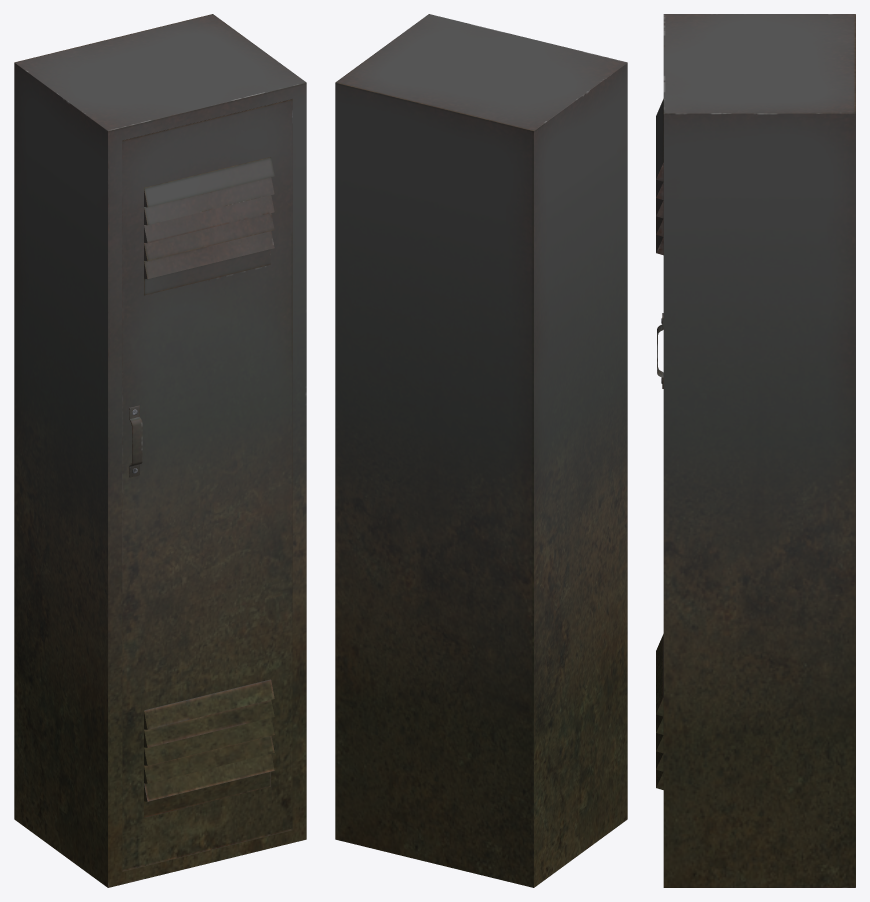
File: LOCKER_FINAL.fbx
3 renders of one model, left to right at view 1: azimuth 30°, elevation 25°; view 2: azimuth 150°, elevation 25°; view 3: azimuth 270°, elevation 25°, orthographic. The views are drawn at different scales.
Parts seen in each view (by area): view 1: Cube.004; view 2: Cube.004; view 3: Cube.004.
Boxes of the visible parts, bbox=[...] form: Cube.004: bbox=[14, 14, 306, 887]; Cube.004: bbox=[335, 14, 627, 887]; Cube.004: bbox=[656, 14, 855, 887].
Size of the model in its own units: 55 by 200 by 46.74.
Materials: 1 (1 with a texture image).
